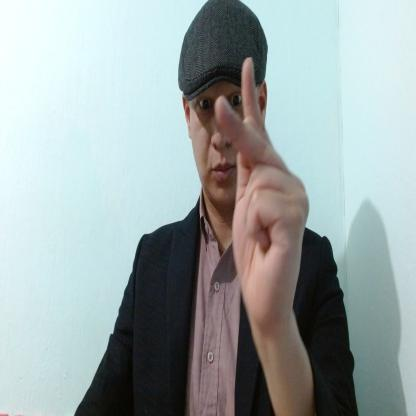P: (212, 52, 311, 329)
